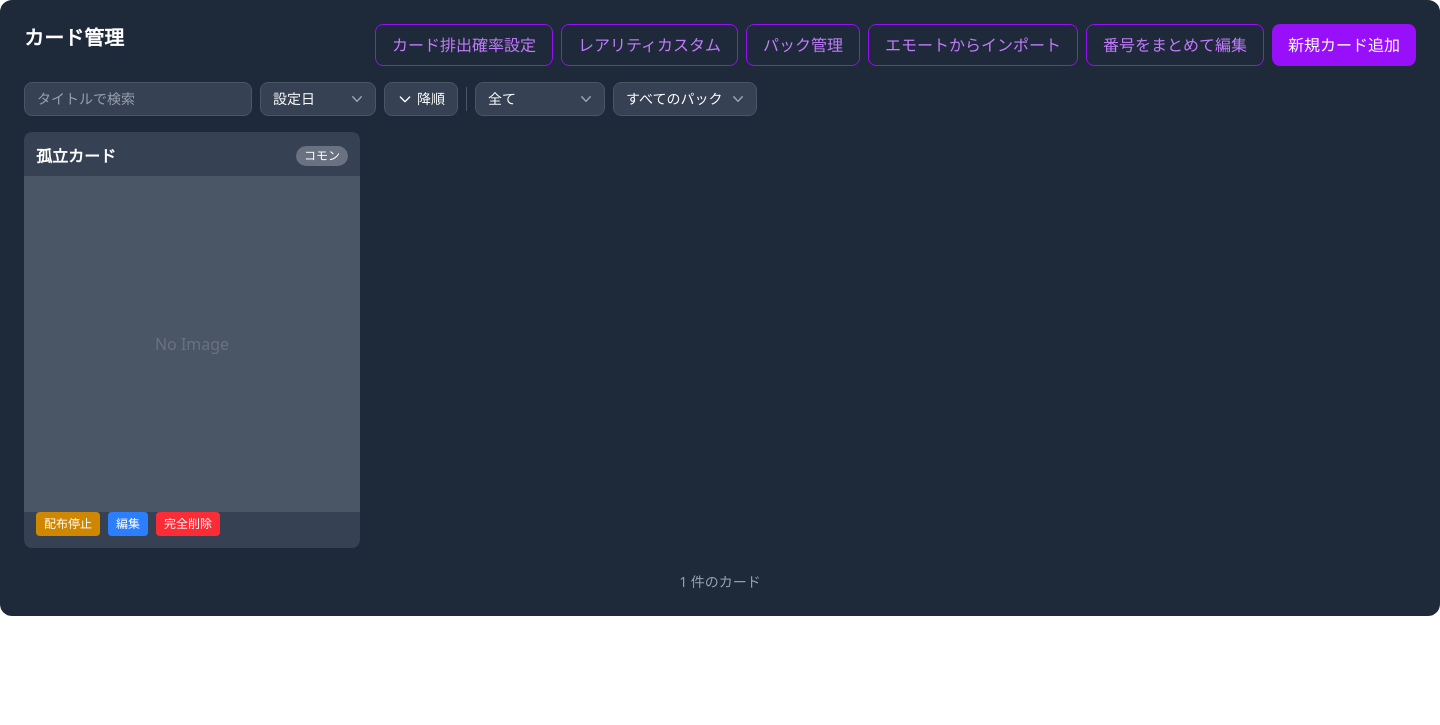
it: CardManager pack select visibility (Issue #567) › shows the pack select for an orphaned reference even with zero registered packs (edit mode)
Click the button "編集" at [128, 524], box [108,512,148,536]
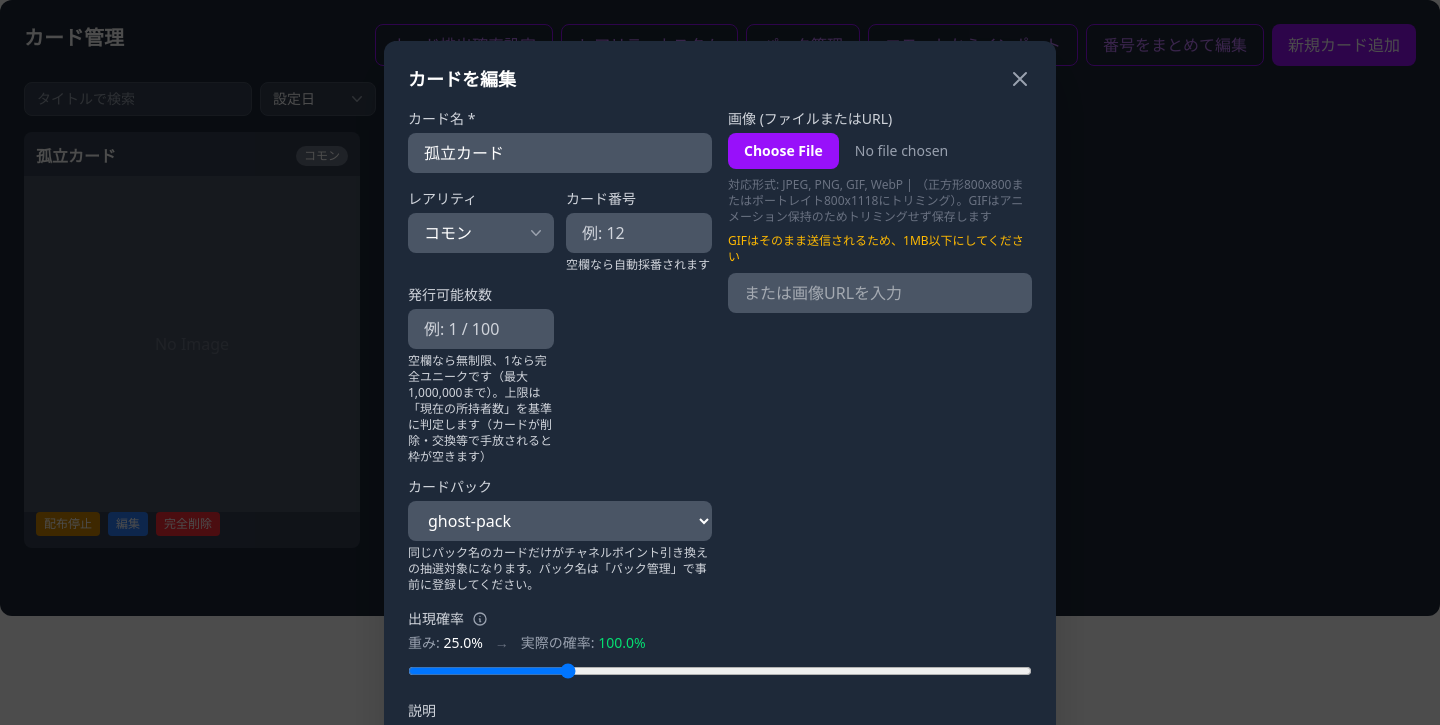
Expected: the text "カードパック" is shown, [408,476,492,496]
Expected: the dropdown named "collectionName" below "カードパック" is shown, [408,500,712,540]
